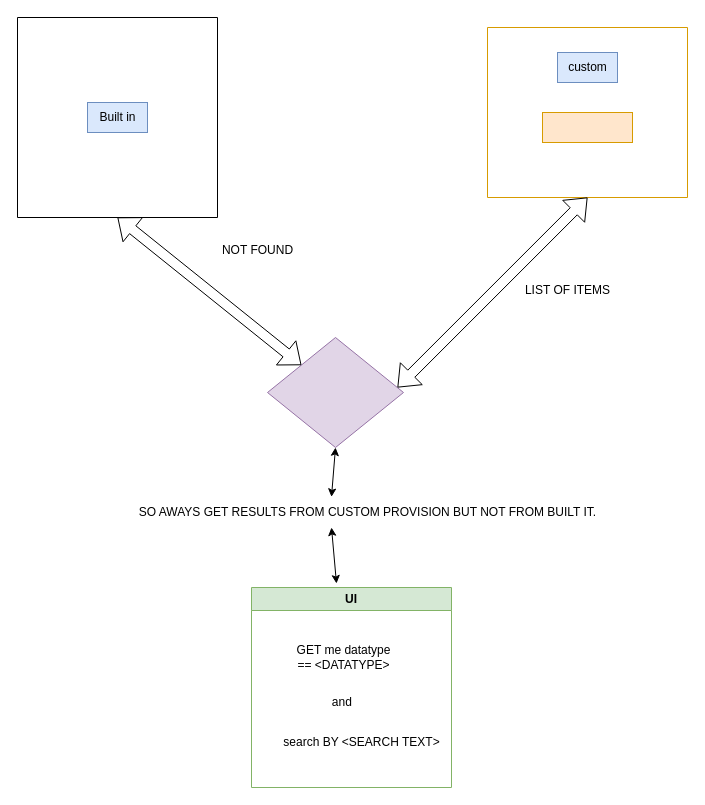
Image size: 705x805. Some labels were removed from this diagram. Each missing label, with the centre of its shape:
"DATA TYPE" belongs at [587,127].
"SERVER" belongs at [335,392].
